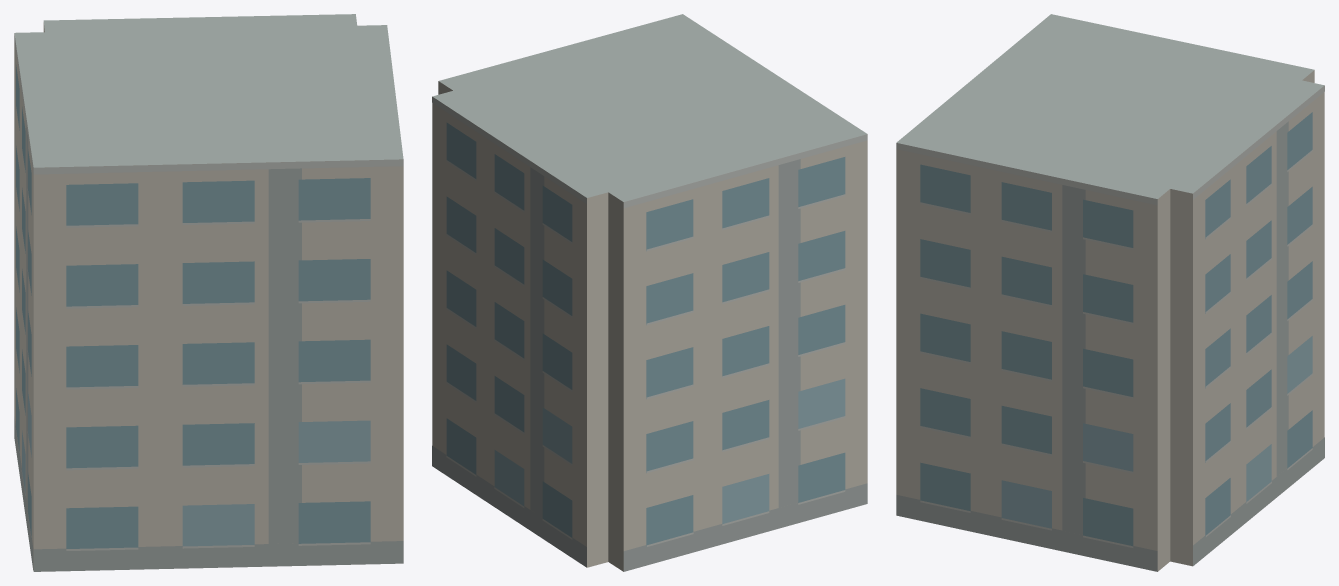
File: survey-upis-32990165.glb
3 views of the same model, side by side, from view 1: azimuth 30°, elevation 25°; view 2: azimuth 150°, elevation 25°; view 3: azimuth 270°, elevation 25° (orthographic). The views are drawn at different scales.
Visible parts, largest first — view 1: survey-upis-32990165.tmp; view 2: survey-upis-32990165.tmp; view 3: survey-upis-32990165.tmp.
Boxes of the visible parts, bbox=[...] form: survey-upis-32990165.tmp: bbox=[14, 14, 403, 571]; survey-upis-32990165.tmp: bbox=[432, 14, 867, 571]; survey-upis-32990165.tmp: bbox=[896, 14, 1324, 571].
Size of the model in its own units: 15.46 by 14.5 by 15.12.
